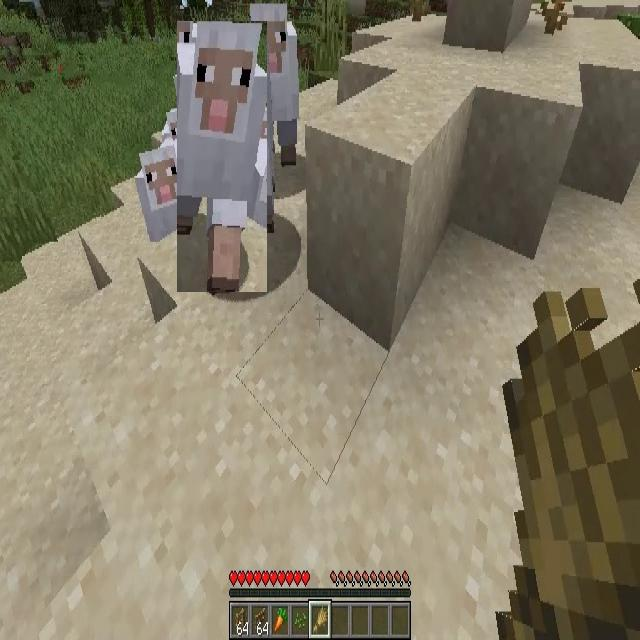sheep: (177, 21, 267, 292), (244, 4, 299, 166), (136, 138, 194, 241)
